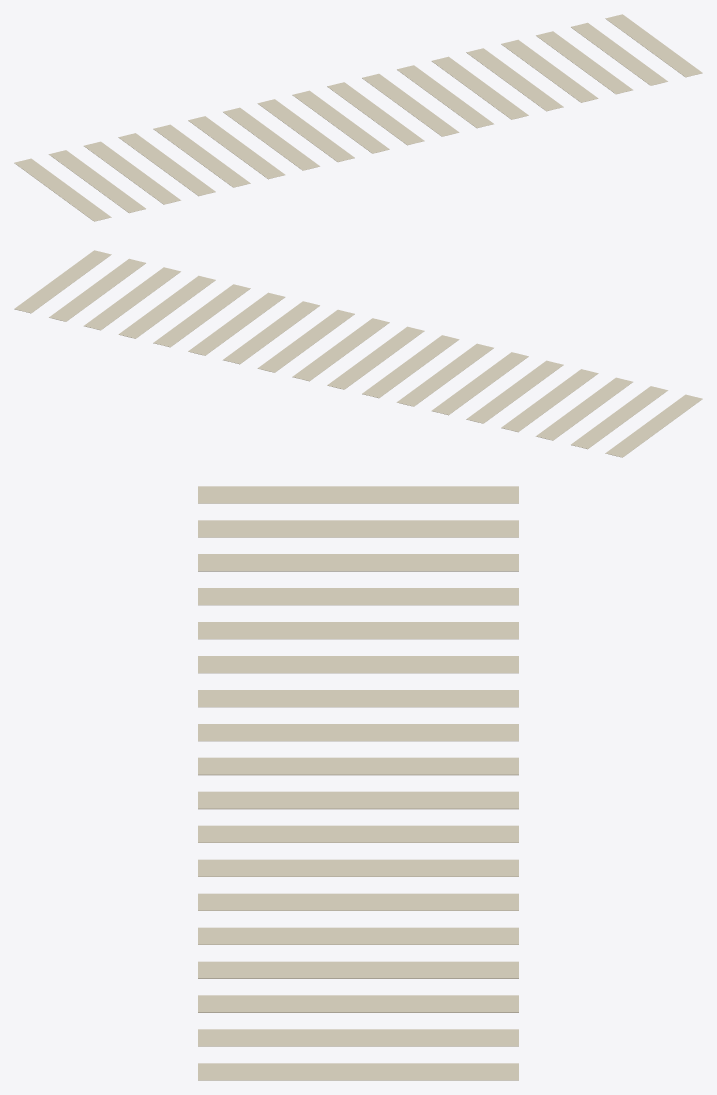
The model's file is crosswalk.glb.
3 renders of one model, top to bottom at view 1: azimuth 30°, elevation 25°; view 2: azimuth 150°, elevation 25°; view 3: azimuth 270°, elevation 25°, orthographic. The views are drawn at different scales.
Parts seen in each view (by area): view 1: crosswalk; view 2: crosswalk; view 3: crosswalk.
Part boxes in pixels (x1,y1,x2,y2): crosswalk: (14, 14, 702, 221); crosswalk: (14, 250, 702, 457); crosswalk: (198, 486, 518, 1080).
Size of the model in its own units: 17.5 by 0.006 by 4.
1 material, 1 textured.
